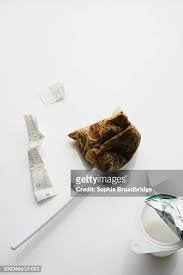paper: (17, 108, 54, 207), (140, 177, 183, 234), (37, 79, 74, 106)
plastic: (120, 206, 183, 275)
trash: (66, 105, 150, 179)
